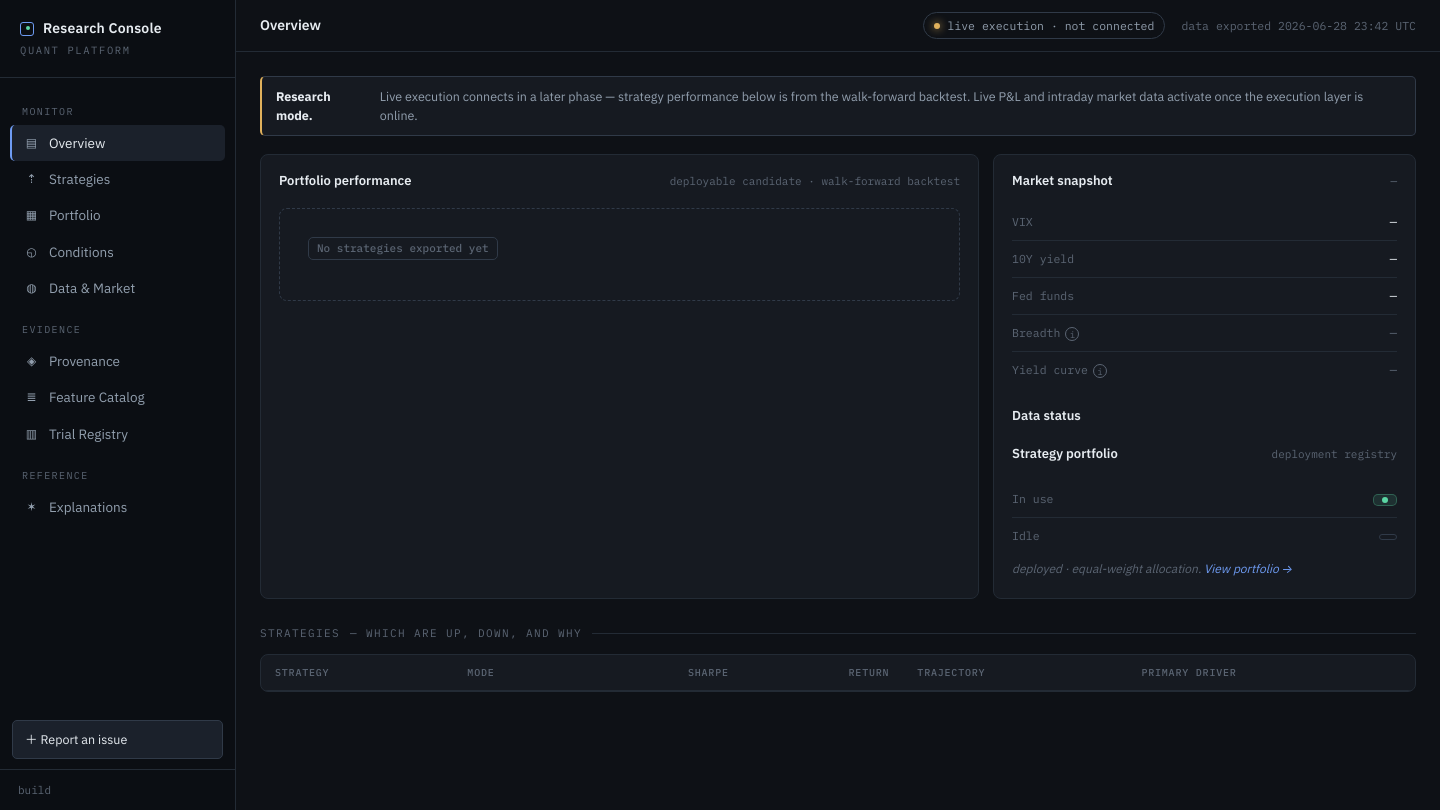
Test: App routing › navigates to another panel and updates the title + active state
Click the link "◈ Provenance" at (73, 361), box [27,352,120,370]
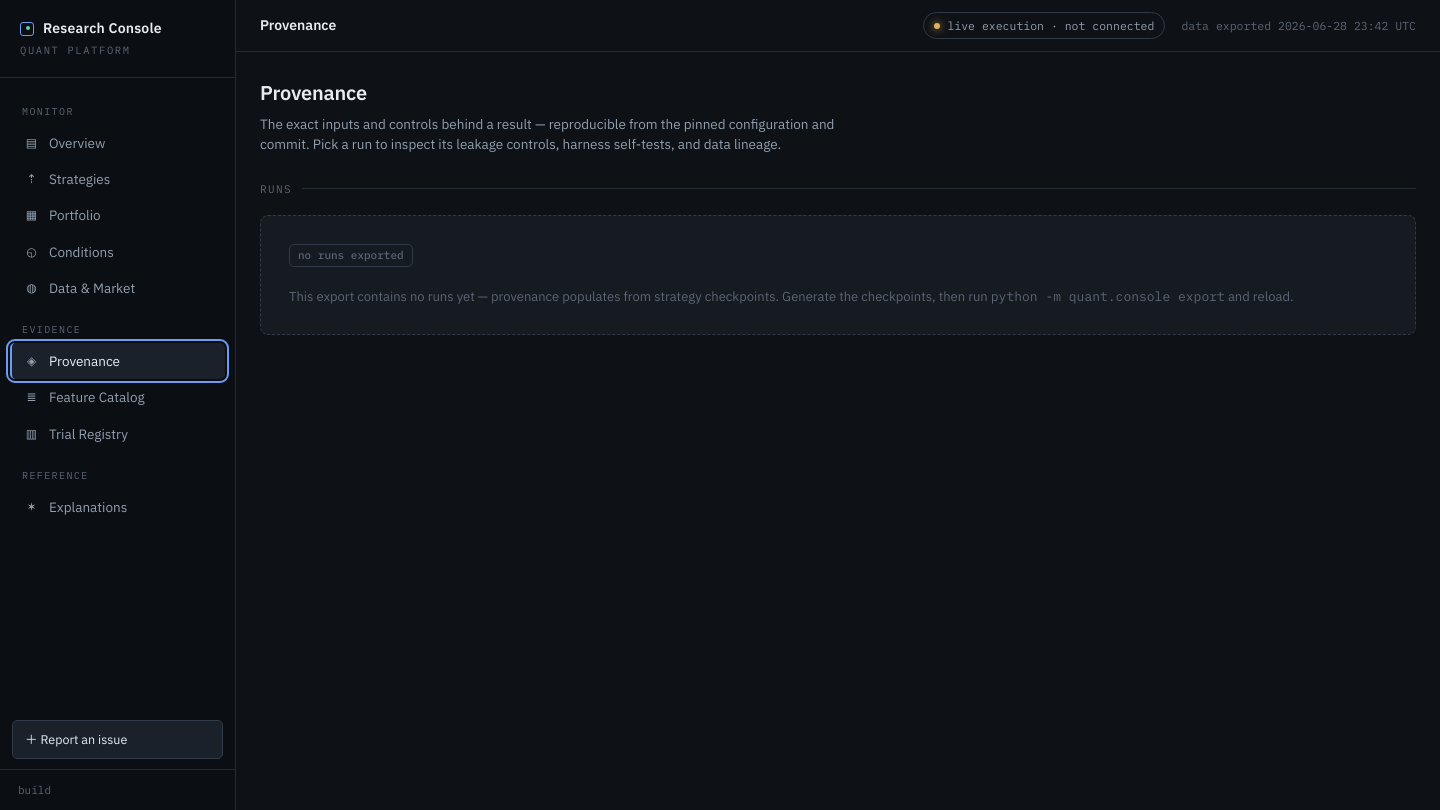
Check: the text "Provenance" in the row of "live execution · not connected" is shown, box [260,16,336,34]
